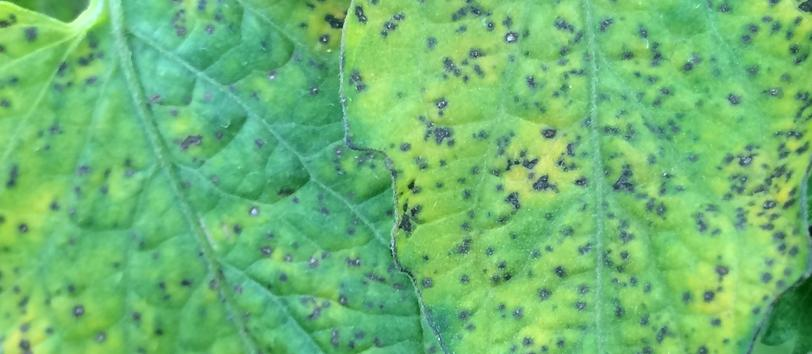Tomato Septoria leaf spot: (0, 0, 520, 354), (337, 0, 812, 354)
